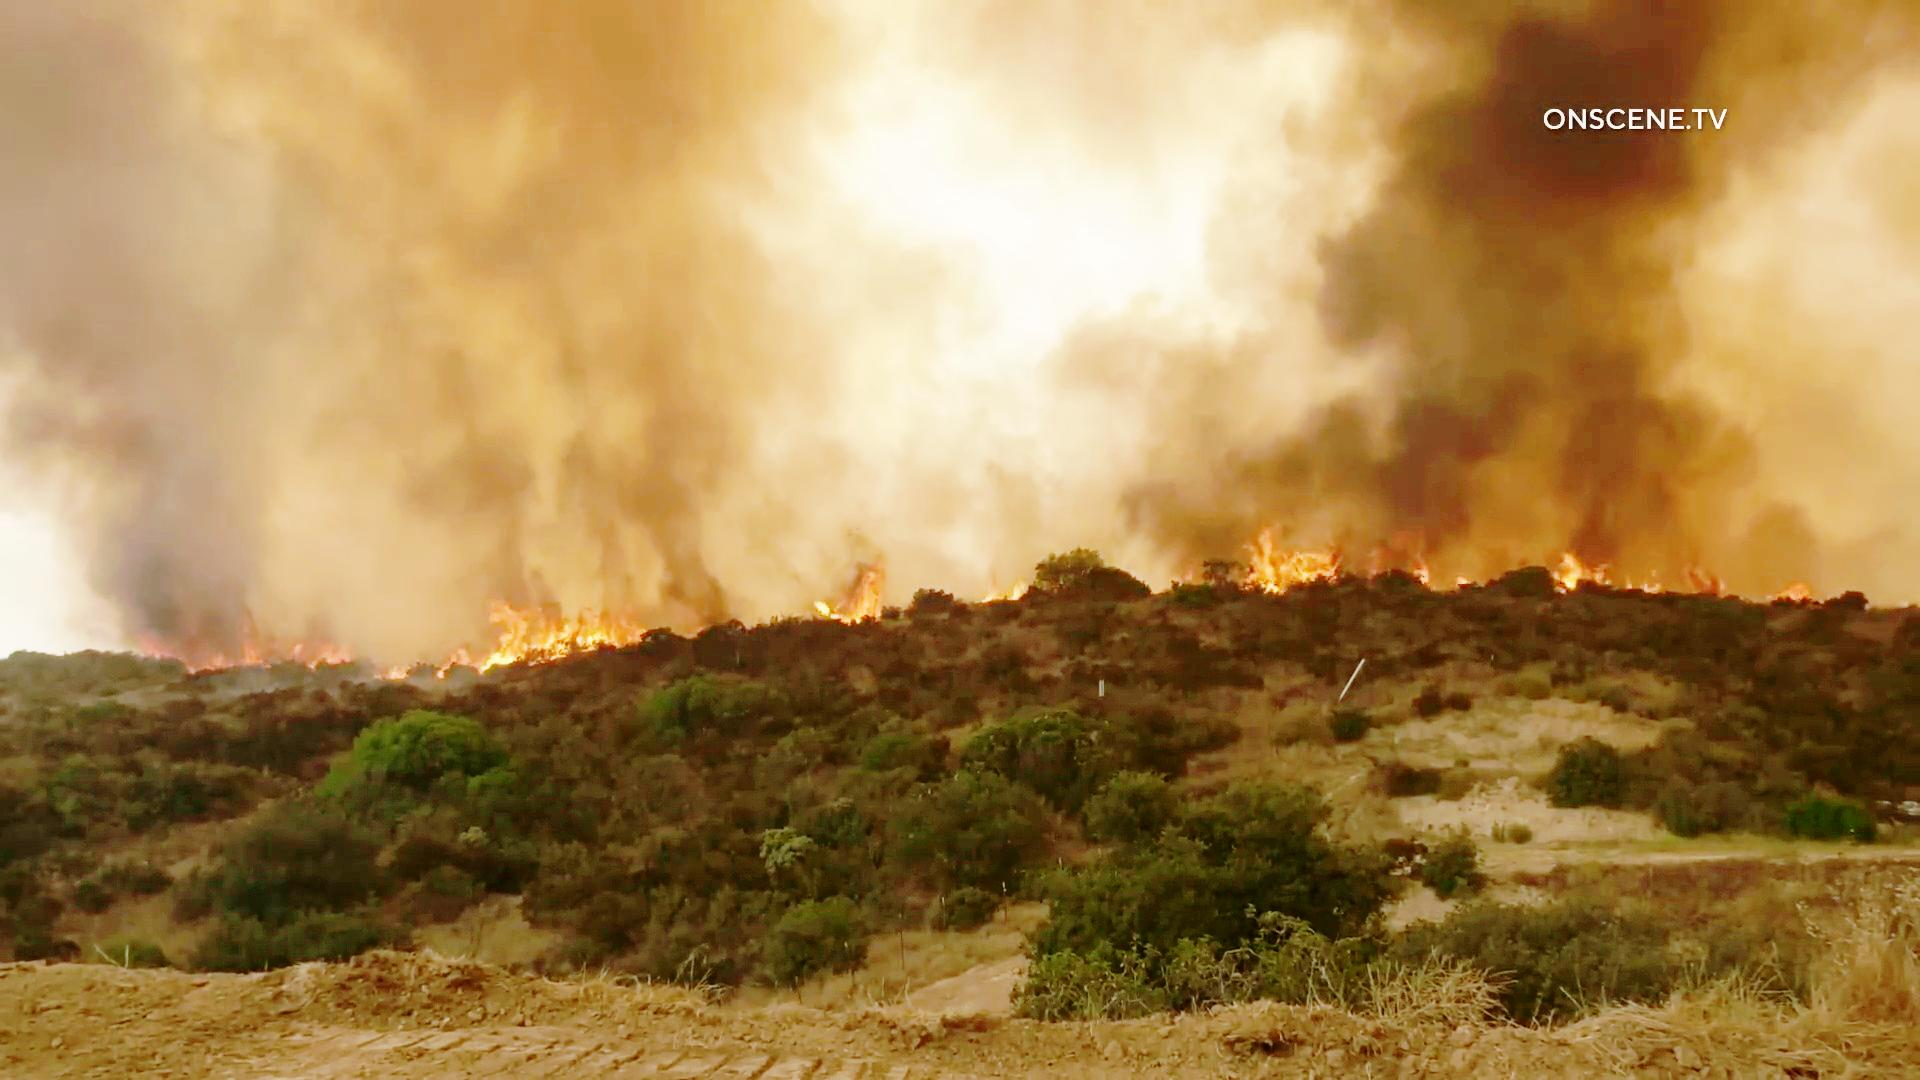fire: (1333, 223, 1698, 549), (477, 597, 663, 680), (806, 543, 915, 642), (1238, 524, 1348, 599)
